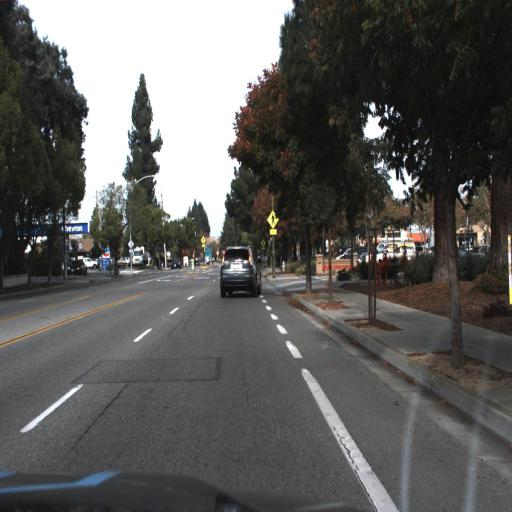car: (217, 243, 265, 300), (356, 237, 417, 271), (67, 256, 91, 276), (166, 252, 182, 272)
truck: (131, 243, 149, 273)
